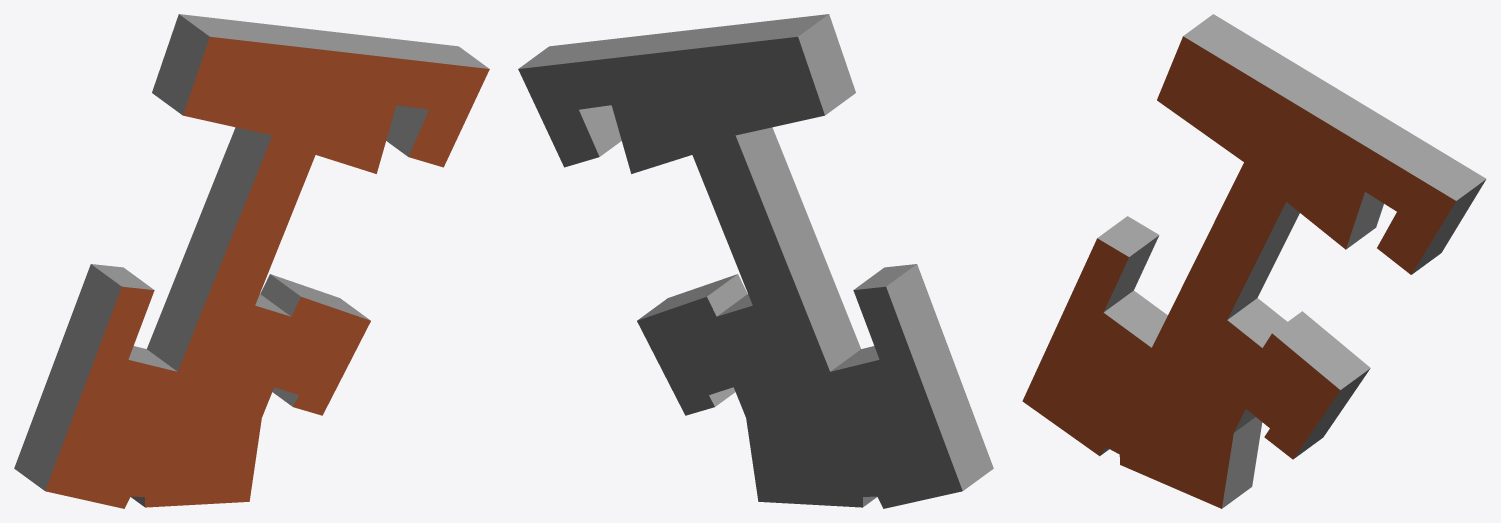
File: construction_6250_assumed_A_Casa_h6m.obj
The picture shows the model from 3 angles, left to right: view 1: azimuth 30°, elevation 25°; view 2: azimuth 150°, elevation 25°; view 3: azimuth 330°, elevation 25°; orthographic projection. The views are drawn at different scales.
Parts seen in each view (by area): view 1: construction_6250_assumed_A_Casa; view 2: construction_6250_assumed_A_Casa; view 3: construction_6250_assumed_A_Casa.
Part boxes in pixels (x1,y1,x2,y2): construction_6250_assumed_A_Casa: (14,14,489,508); construction_6250_assumed_A_Casa: (518,14,993,508); construction_6250_assumed_A_Casa: (1022,14,1486,508).
Bounding box in the file's own units: 49.58 × 50.59 × 6.
